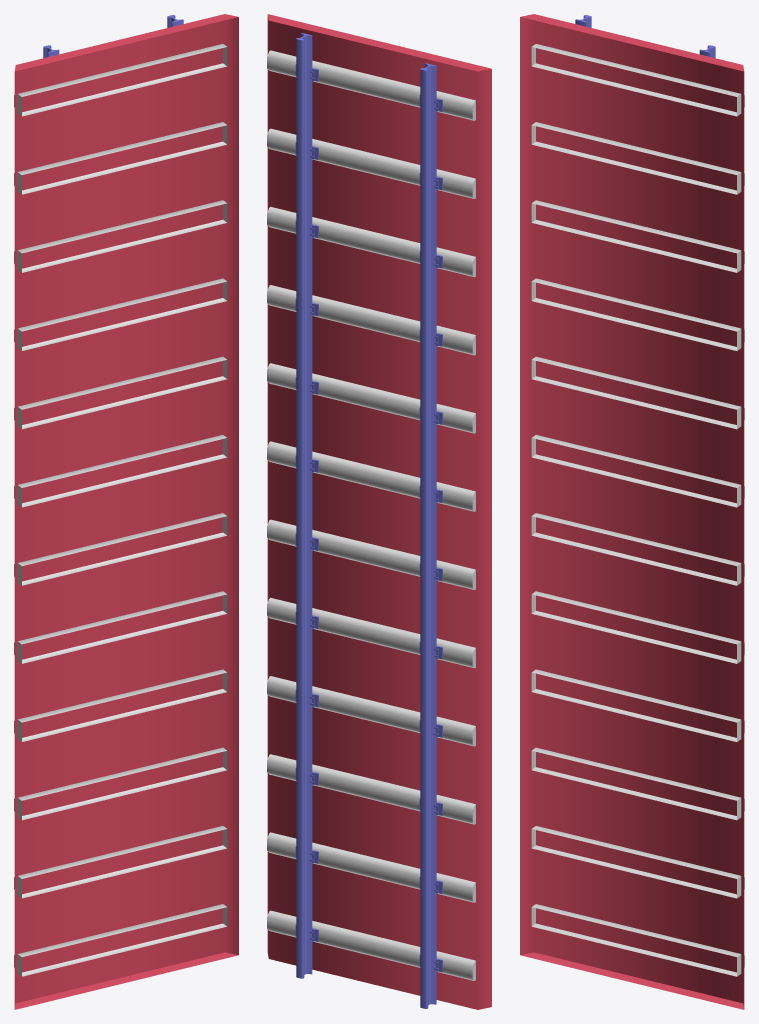
The model's file is rail.fbx.
The picture shows the model from 3 angles, left to right: view 1: azimuth 30°, elevation 25°; view 2: azimuth 150°, elevation 25°; view 3: azimuth 330°, elevation 25°; orthographic projection.
Visible parts, largest first — view 1: 1Rails; view 2: 1Rails; view 3: 1Rails.
Part boxes in pixels (bbox=[...]): 1Rails: bbox=[14, 14, 238, 1009]; 1Rails: bbox=[267, 14, 491, 1009]; 1Rails: bbox=[520, 14, 744, 1009].
Size of the model in its own units: 300 by 1200 by 43.
